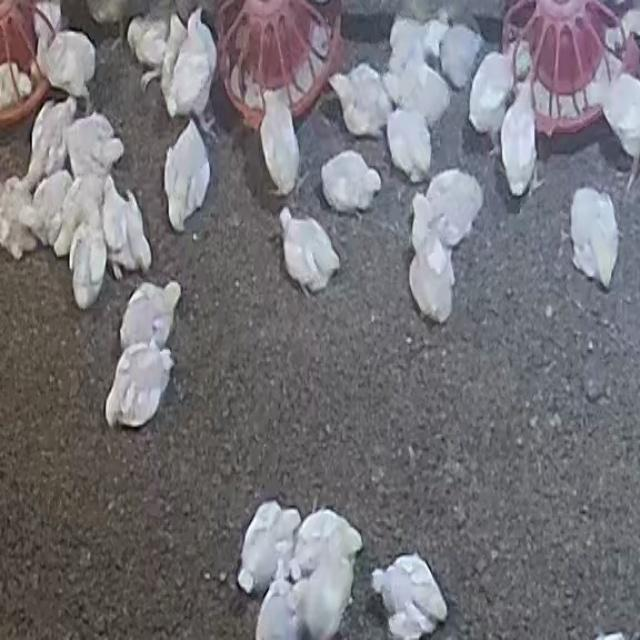chicken: (372, 554, 448, 637), (232, 501, 301, 591), (104, 343, 175, 429), (163, 119, 210, 234), (470, 37, 525, 134), (587, 74, 639, 175), (278, 208, 340, 292), (410, 172, 484, 242), (172, 7, 216, 122), (570, 188, 618, 290), (291, 508, 364, 575), (104, 176, 150, 278), (327, 64, 393, 135), (296, 562, 356, 639), (118, 282, 182, 348), (260, 90, 300, 193), (384, 61, 451, 121), (27, 98, 77, 177), (501, 86, 536, 198), (64, 112, 125, 174), (319, 151, 379, 214), (40, 32, 94, 99), (56, 176, 101, 255), (408, 246, 454, 323), (67, 211, 102, 308), (387, 109, 432, 180), (256, 580, 304, 640), (384, 16, 448, 60), (440, 22, 484, 86), (33, 169, 70, 244), (128, 11, 166, 80), (604, 5, 640, 52), (0, 61, 32, 107), (34, 0, 60, 42)
